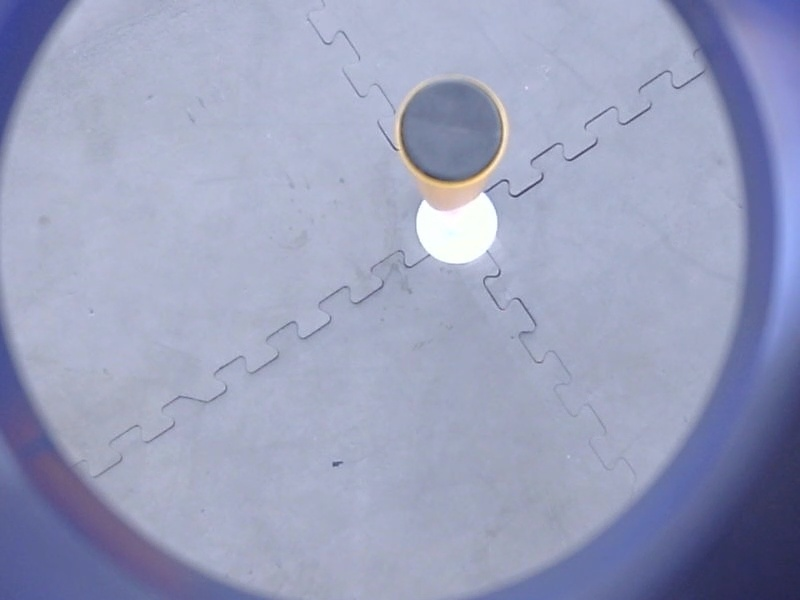tip: (388, 70, 518, 194)
